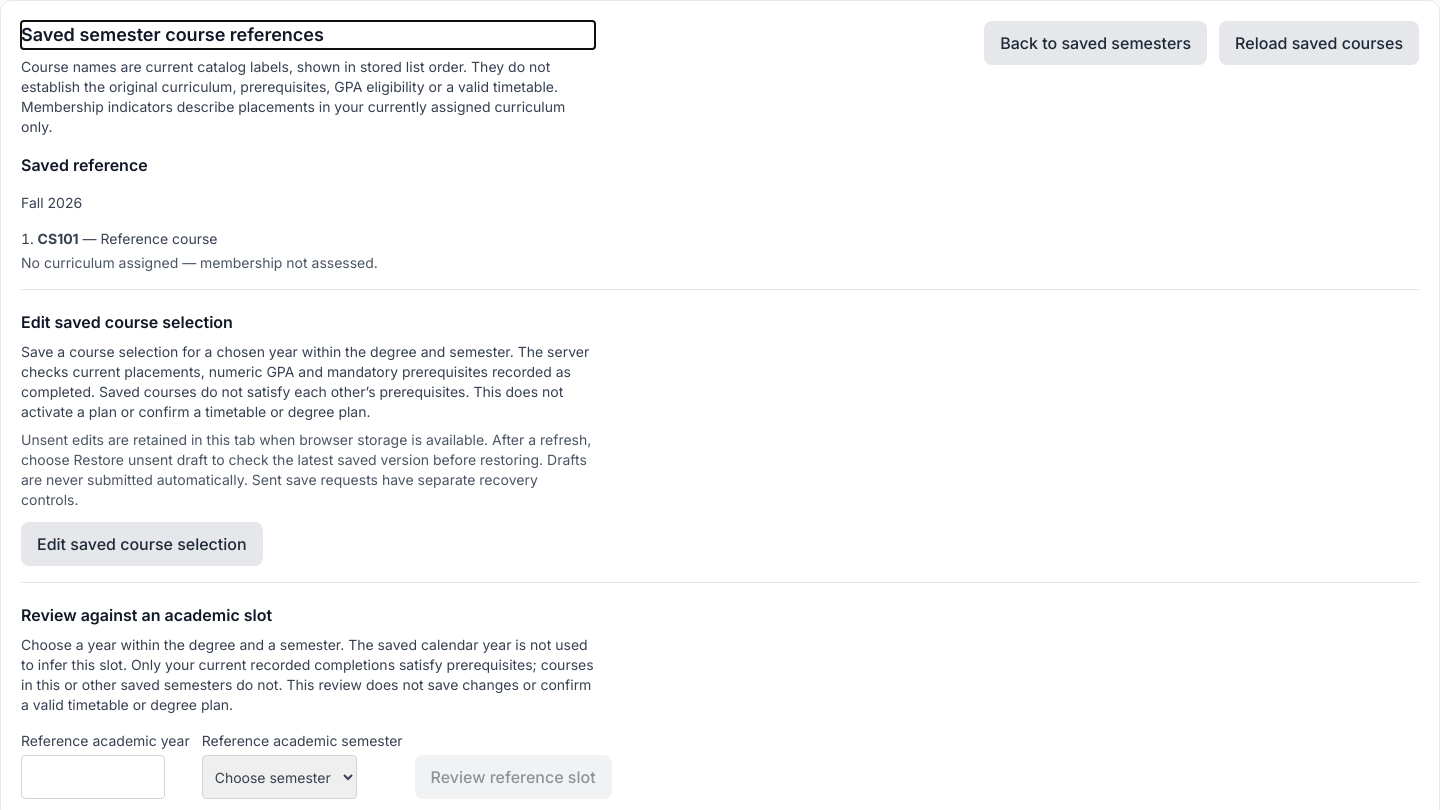
saved semester course references › hides membership indicators while refreshing and after a read failure
Expected: the text "No curriculum assigned — membership not assessed." is shown, [21, 254, 378, 271]
Click the button "Reload saved courses".
click(1319, 43)  # box [1219, 21, 1419, 65]
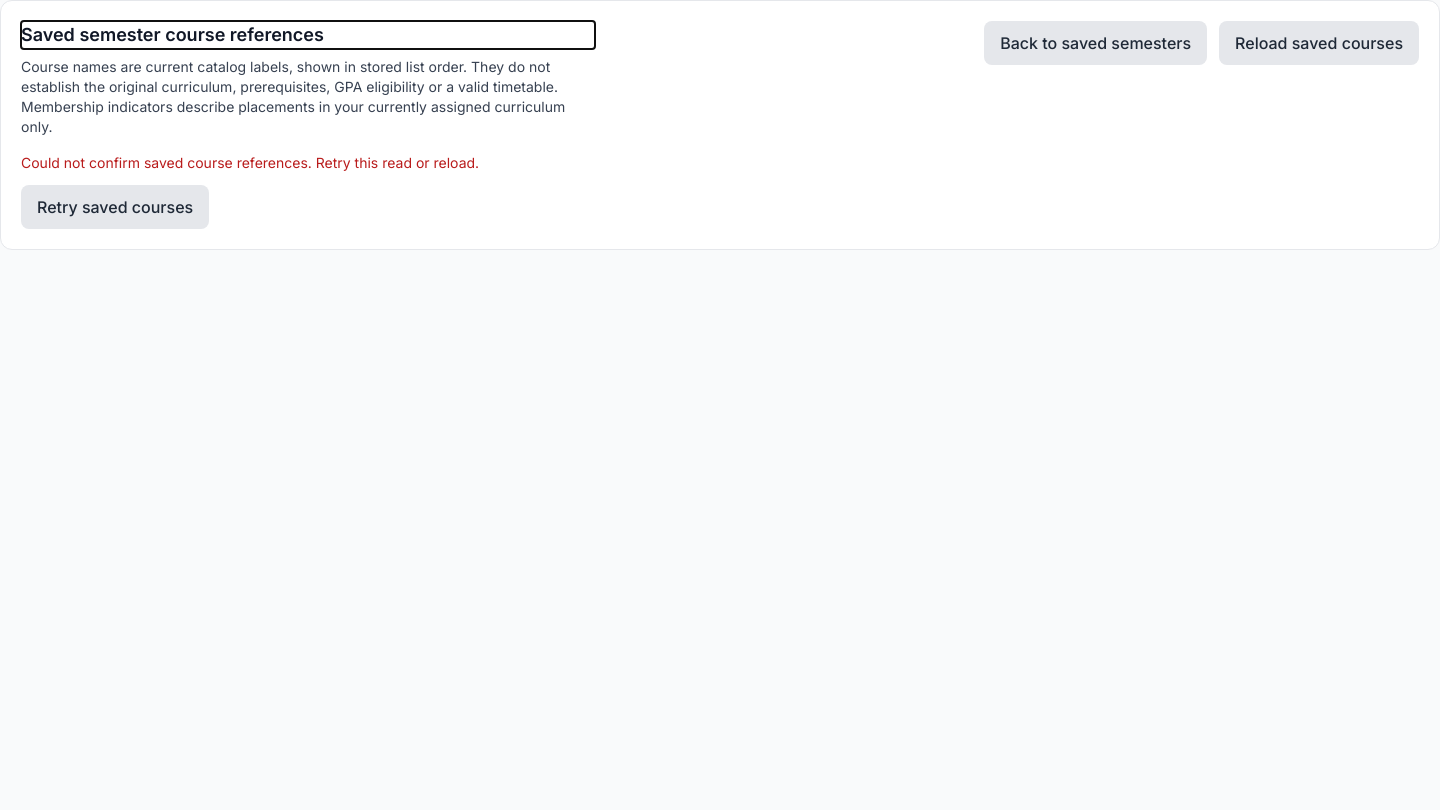
Now the text "membership not assessed" is gone
Now the message "Could not confirm saved course references. Retry this read or reload." is shown, box [21, 154, 479, 171]
Now the list is gone
